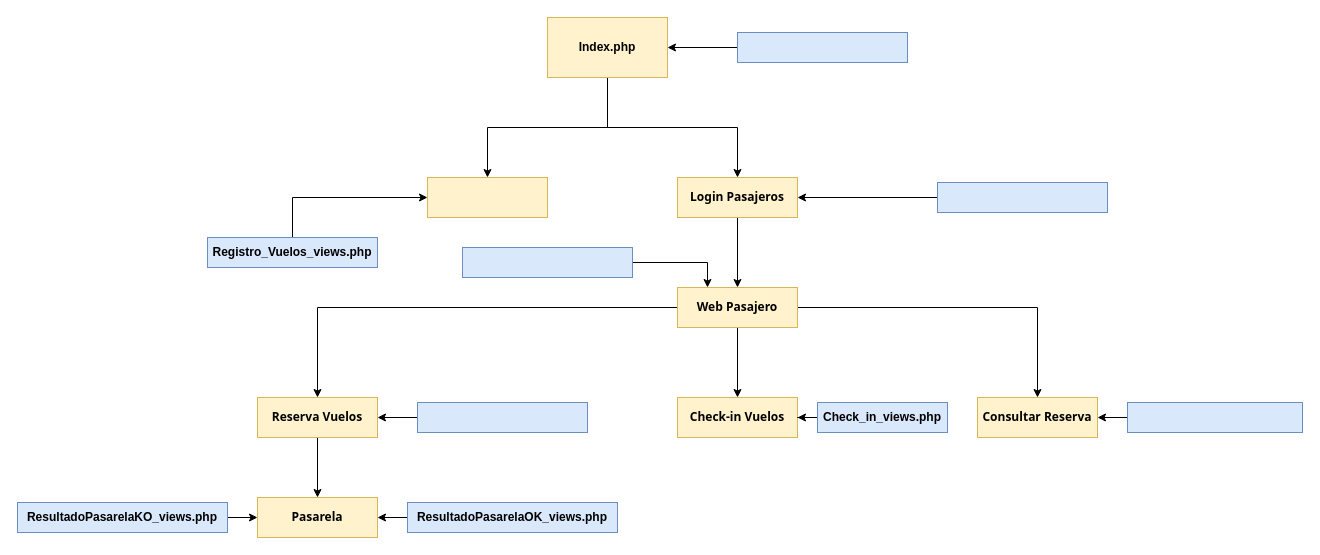
The diagram is 1320 pixels wide and 555 high, and some of its shapes have lost their labels. Each missing label, with the centre of its shape:
"Consultar_Reserva_views.php" belongs at (1214,417).
"Login_Pasajero_views.php" belongs at (1022,197).
"Registro Pasajero" belongs at (487,197).
"Reserva_Vuelos_views.php" belongs at (502,417).
"Web_Pasajero_views.php" belongs at (547,262).
"Web_Reservas_views.php" belongs at (822,47).
